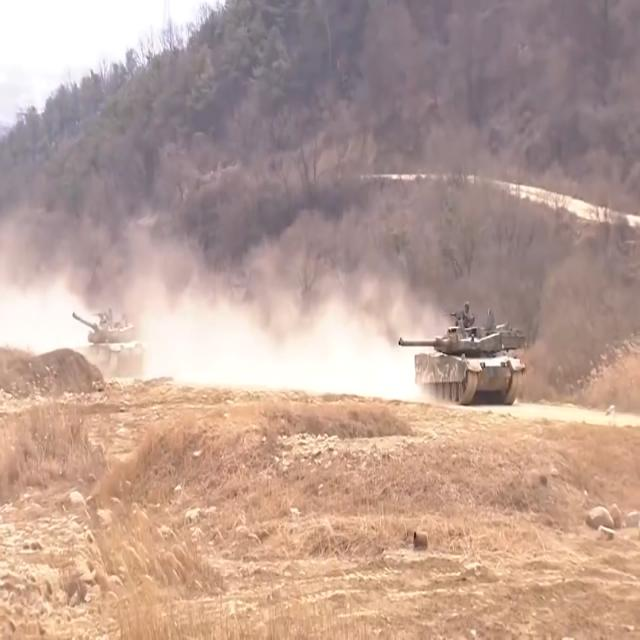korea tank: (398, 301, 526, 407)
